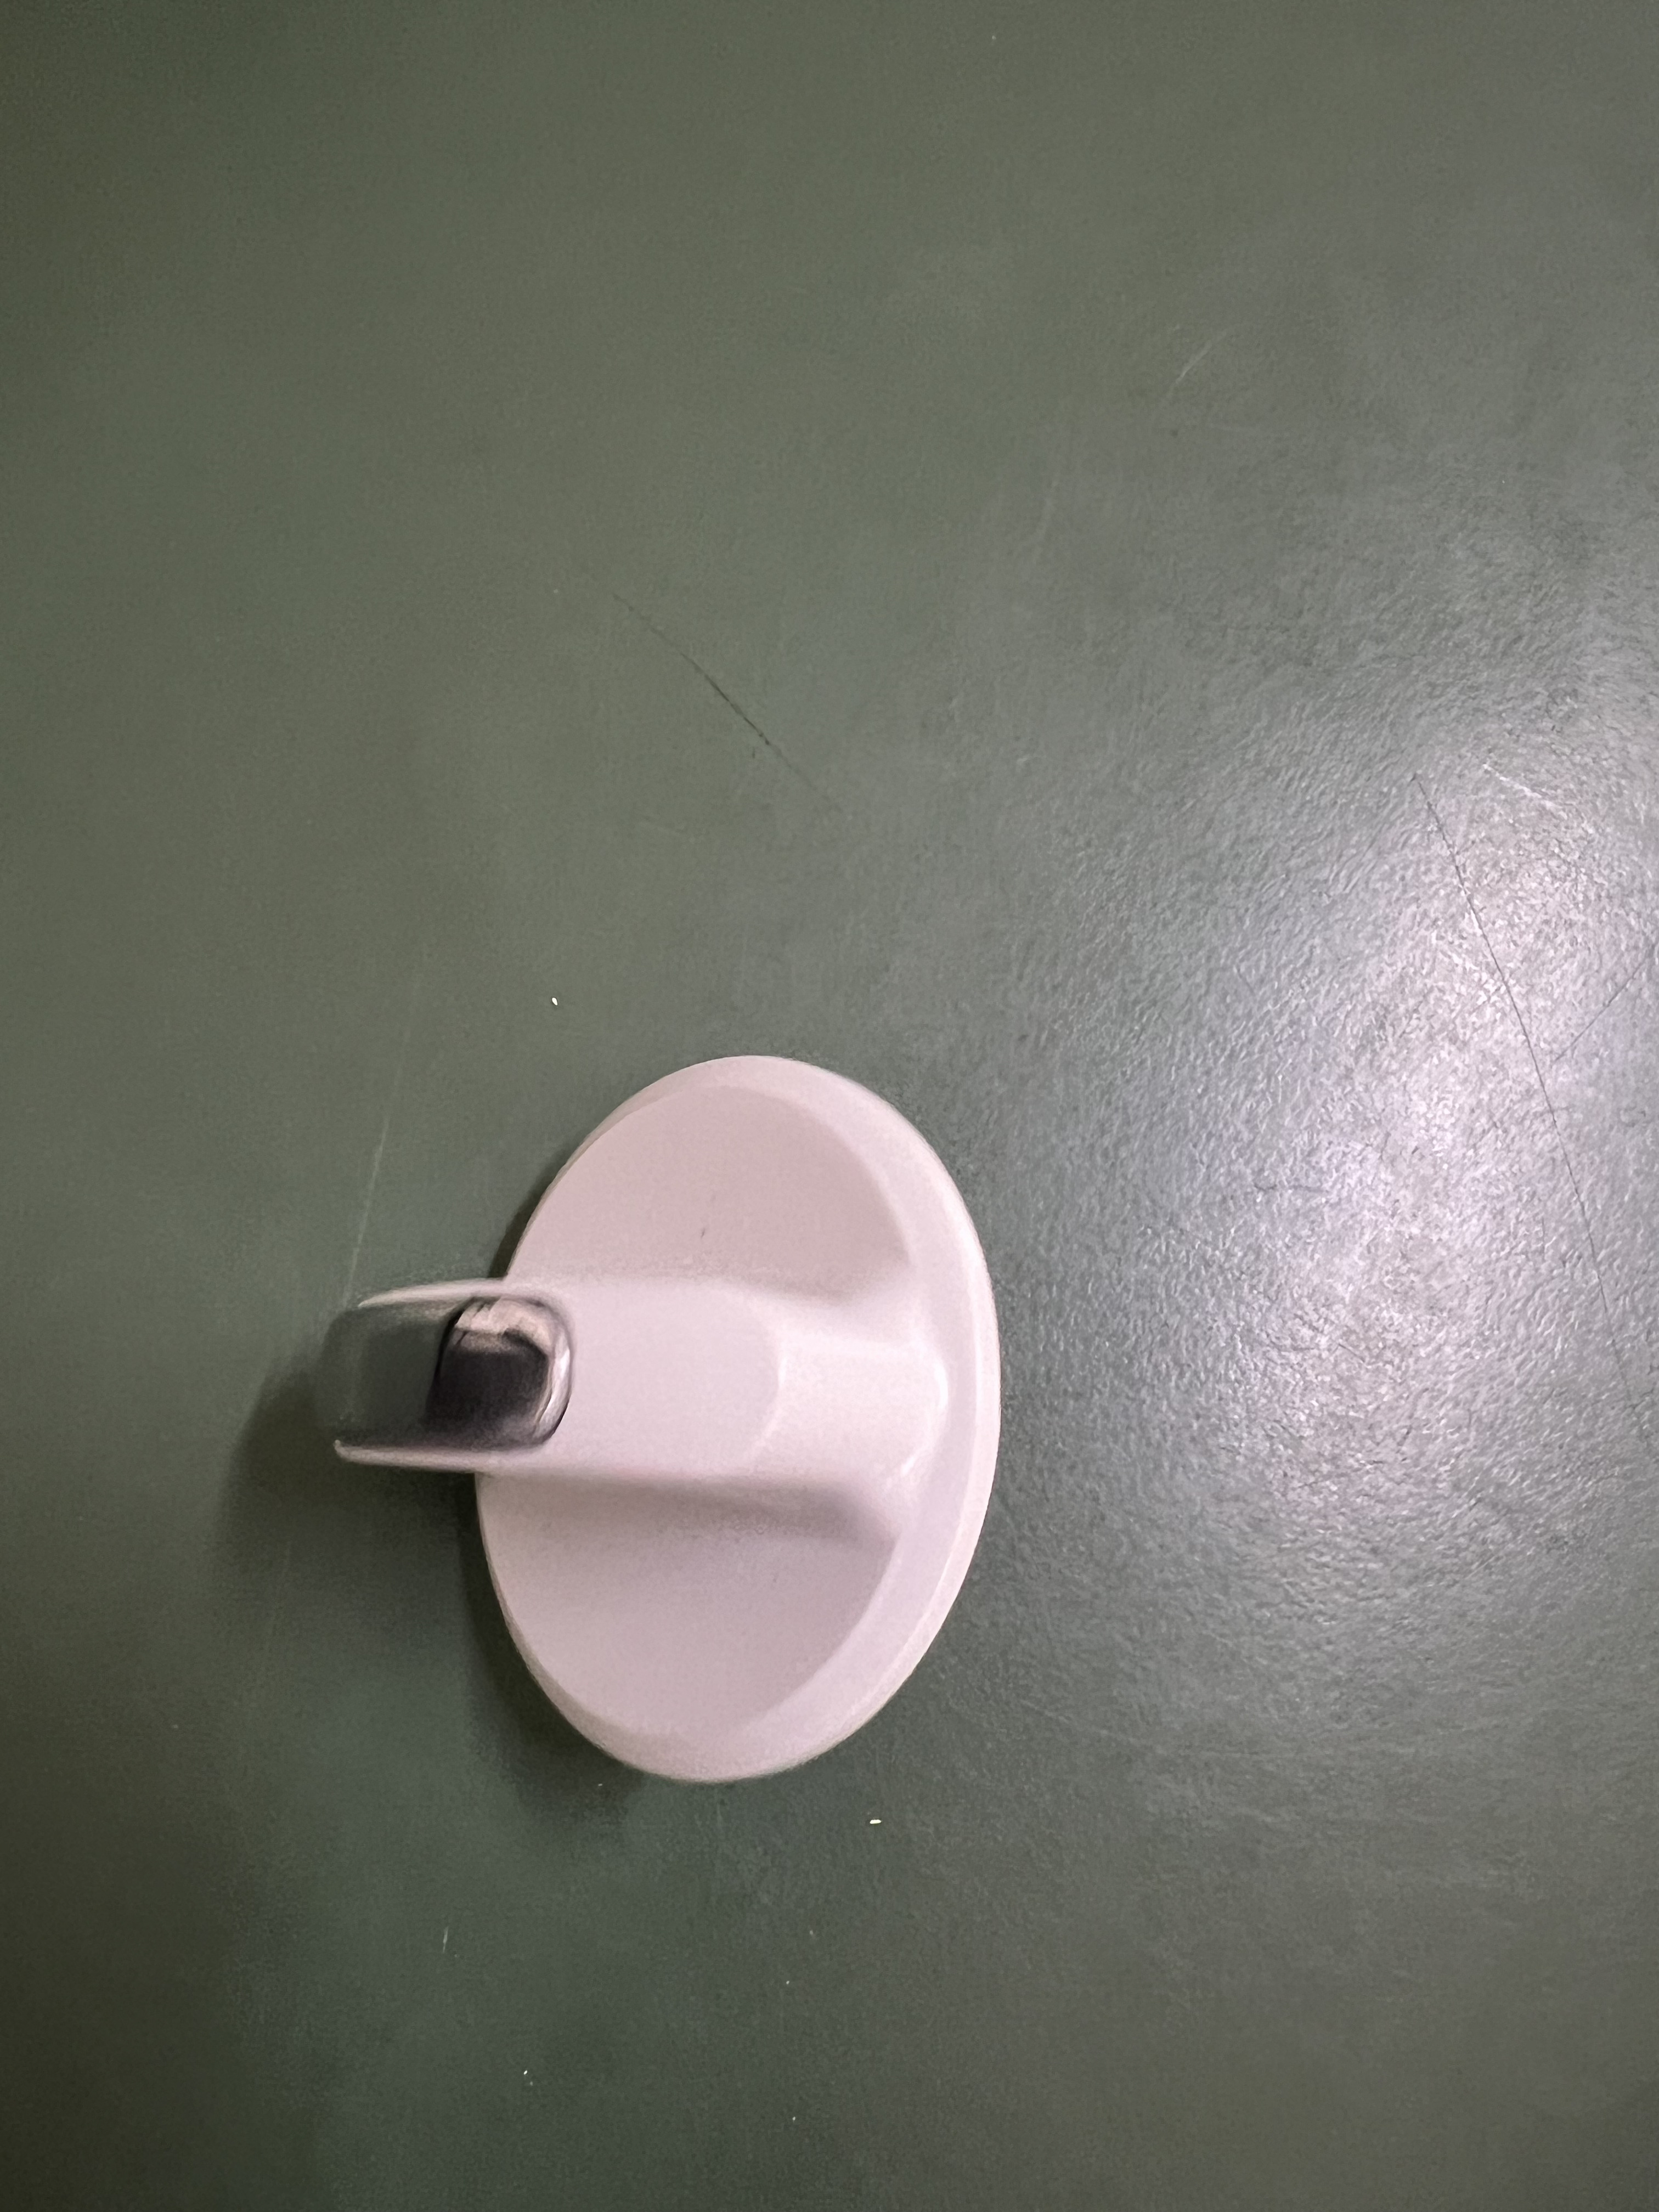regulator: (338, 1038, 1009, 1785)
